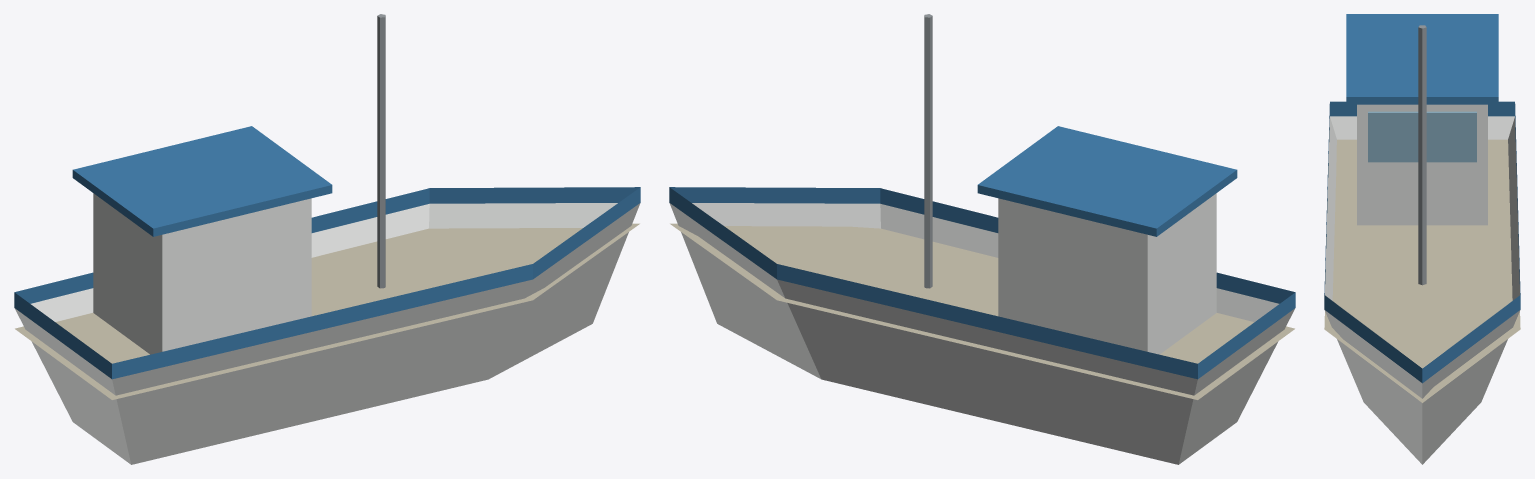
The model's file is boat.glb.
3 views of the same model, side by side, from view 1: azimuth 30°, elevation 25°; view 2: azimuth 150°, elevation 25°; view 3: azimuth 270°, elevation 25° (orthographic). The views are drawn at different scales.
Visible parts, largest first — view 1: boat; view 2: boat; view 3: boat.
Part boxes in pixels (x1,y1,x2,y2): boat: (14, 14, 640, 464); boat: (669, 14, 1295, 464); boat: (1324, 14, 1520, 464).
Bounding box in the file's own units: 5.8 × 3.45 × 1.8.
